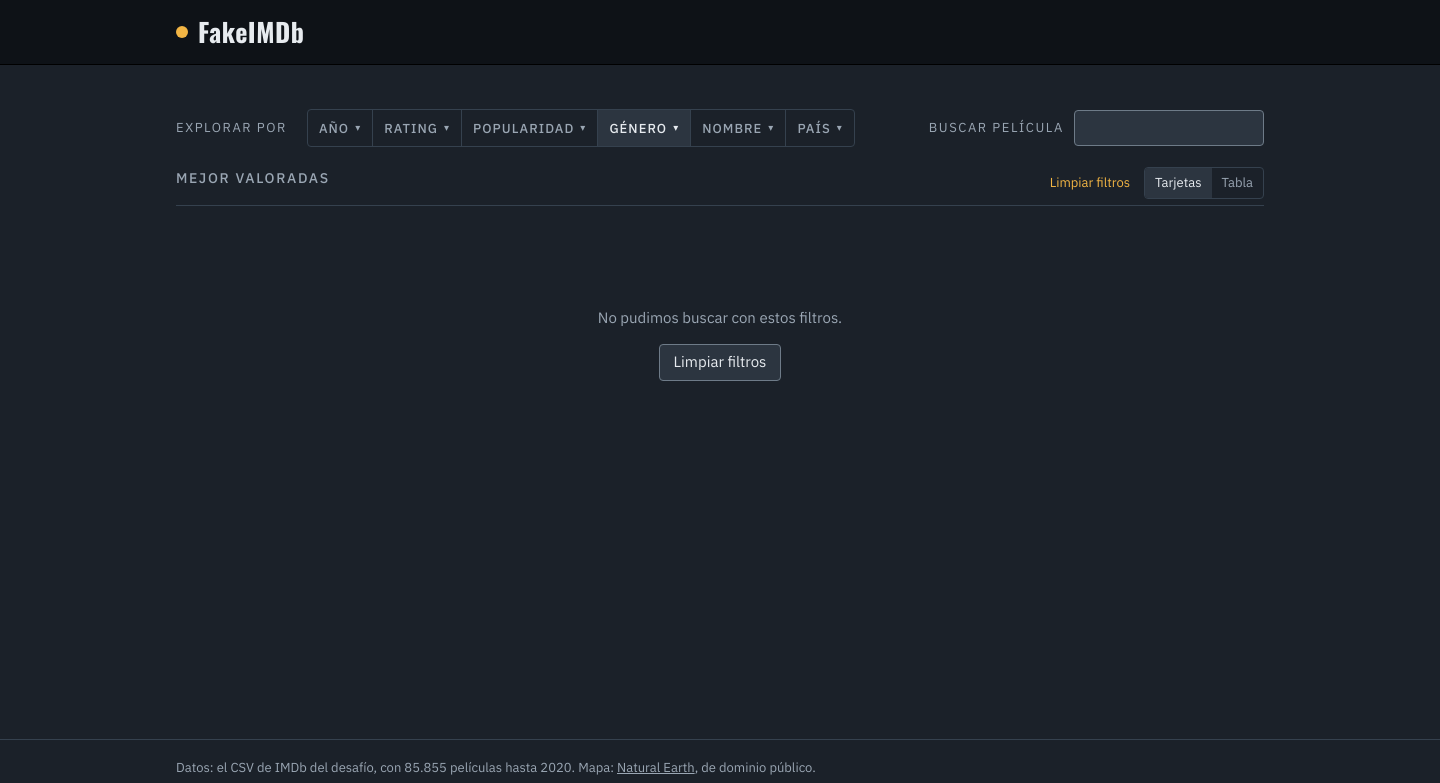
Test case: browse page › offers to clear the filters when the API rejects them, since retrying would fail again
expect the message shows "No pudimos buscar con estos filtros.": met, box top-left (598, 308), bottom-right (842, 326)
Click the button "Limpiar filtros" below "No pudimos buscar con estos filtros.": (720, 362) top-left (659, 344), bottom-right (781, 380)
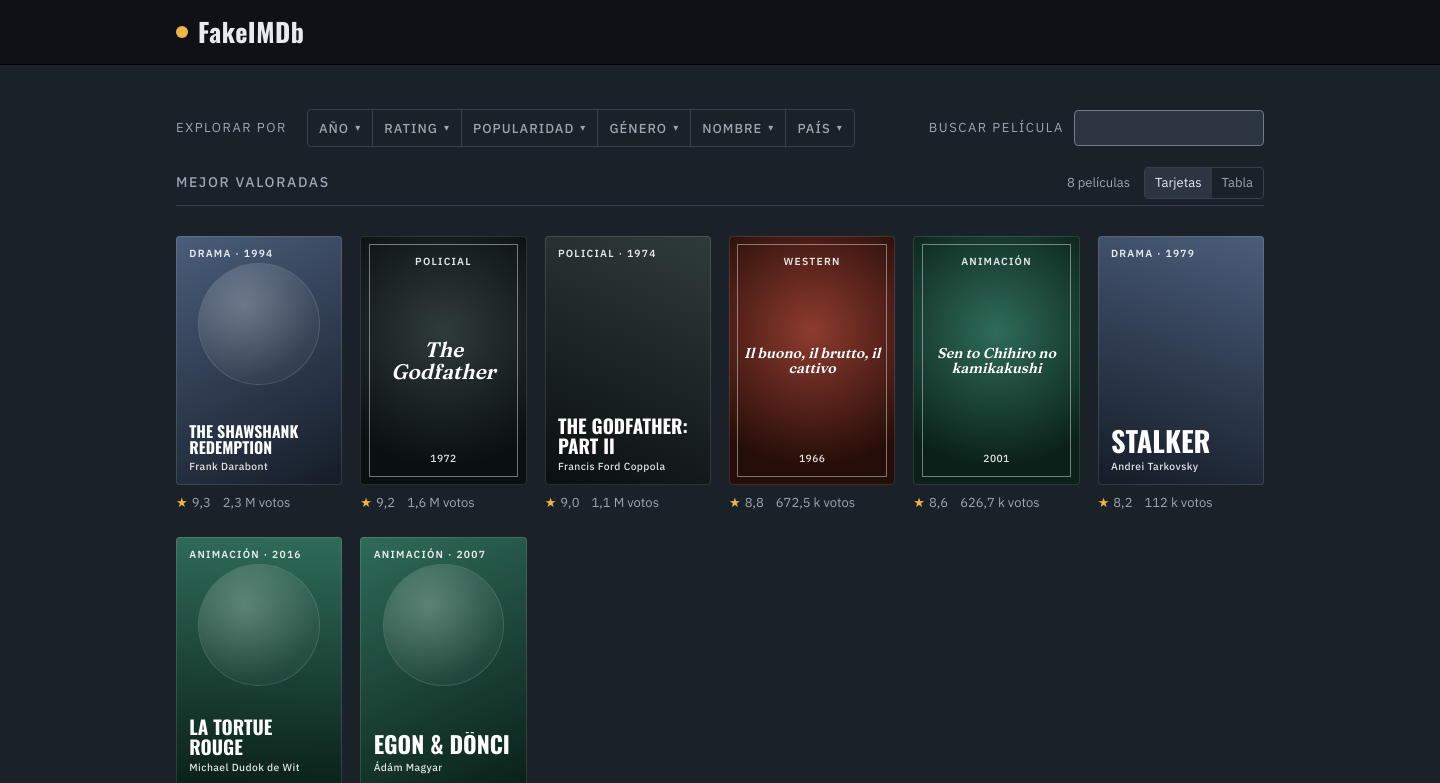
expect the link with aria-label "Stalker (1979)" is shown: met, box top-left (1098, 236), bottom-right (1264, 485)
